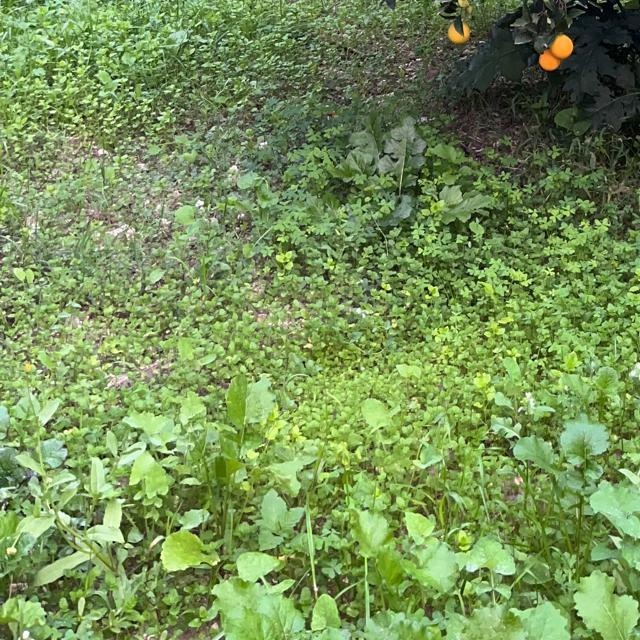orange: (446, 19, 468, 43), (548, 34, 570, 56), (536, 51, 558, 71)
